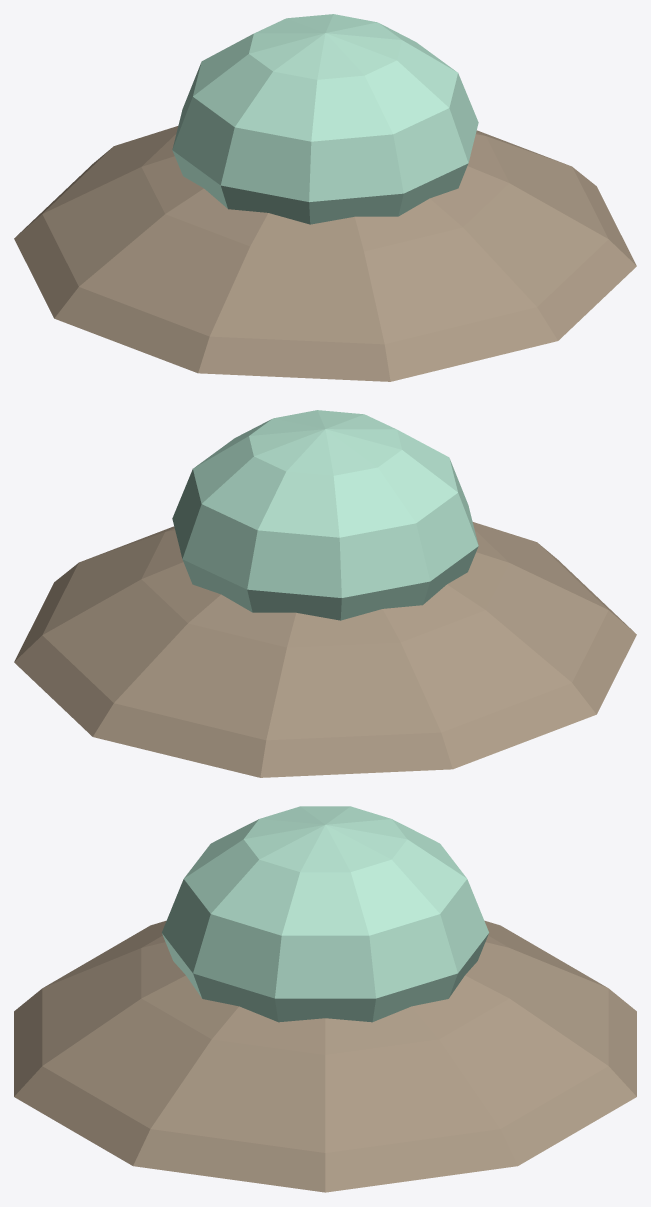
File: prp_food_token_c.glb
The picture shows the model from 3 angles, top to bottom: view 1: azimuth 30°, elevation 25°; view 2: azimuth 150°, elevation 25°; view 3: azimuth 270°, elevation 25°; orthographic projection. The views are drawn at different scales.
Visible parts, largest first — view 1: prp_food_token_c_bowl, prp_food_token_c_heap; view 2: prp_food_token_c_bowl, prp_food_token_c_heap; view 3: prp_food_token_c_bowl, prp_food_token_c_heap.
Part boxes in pixels (left/top/right/bottom): prp_food_token_c_bowl: left=14, top=126, right=636, bottom=381; prp_food_token_c_heap: left=172, top=14, right=478, bottom=224; prp_food_token_c_bowl: left=14, top=522, right=636, bottom=777; prp_food_token_c_heap: left=172, top=410, right=478, bottom=620; prp_food_token_c_bowl: left=14, top=920, right=636, bottom=1192; prp_food_token_c_heap: left=162, top=806, right=488, bottom=1022.
Size of the model in its own units: 0.44 by 0.17 by 0.4185.
